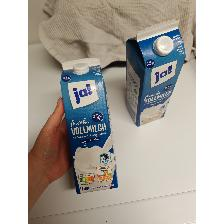Milch: (60, 57, 120, 195), (124, 19, 186, 128)
